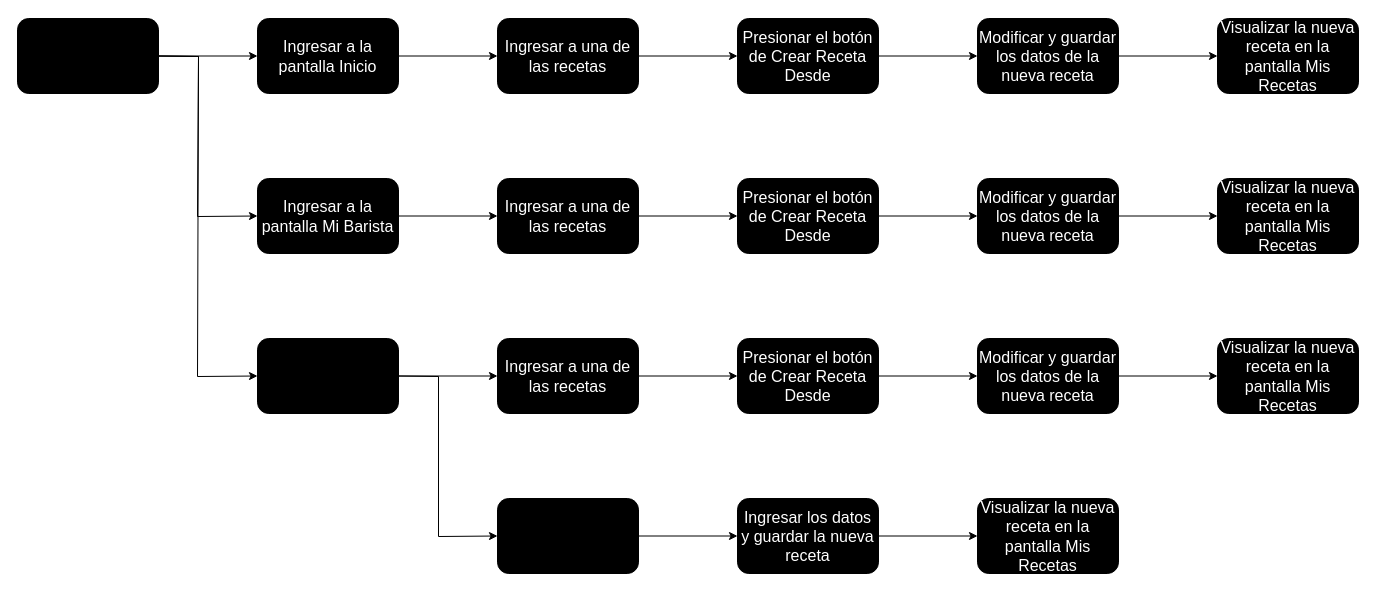
This 1376x591 diagram has some shape labels left out. Each missing label, with the box of its shape:
Ingresar a la aplicación: (16, 18, 158, 94)
Ingresar a la pantalla Mis Recetas: (256, 338, 398, 414)
Presionar el botón de Crear Receta: (496, 498, 638, 574)
